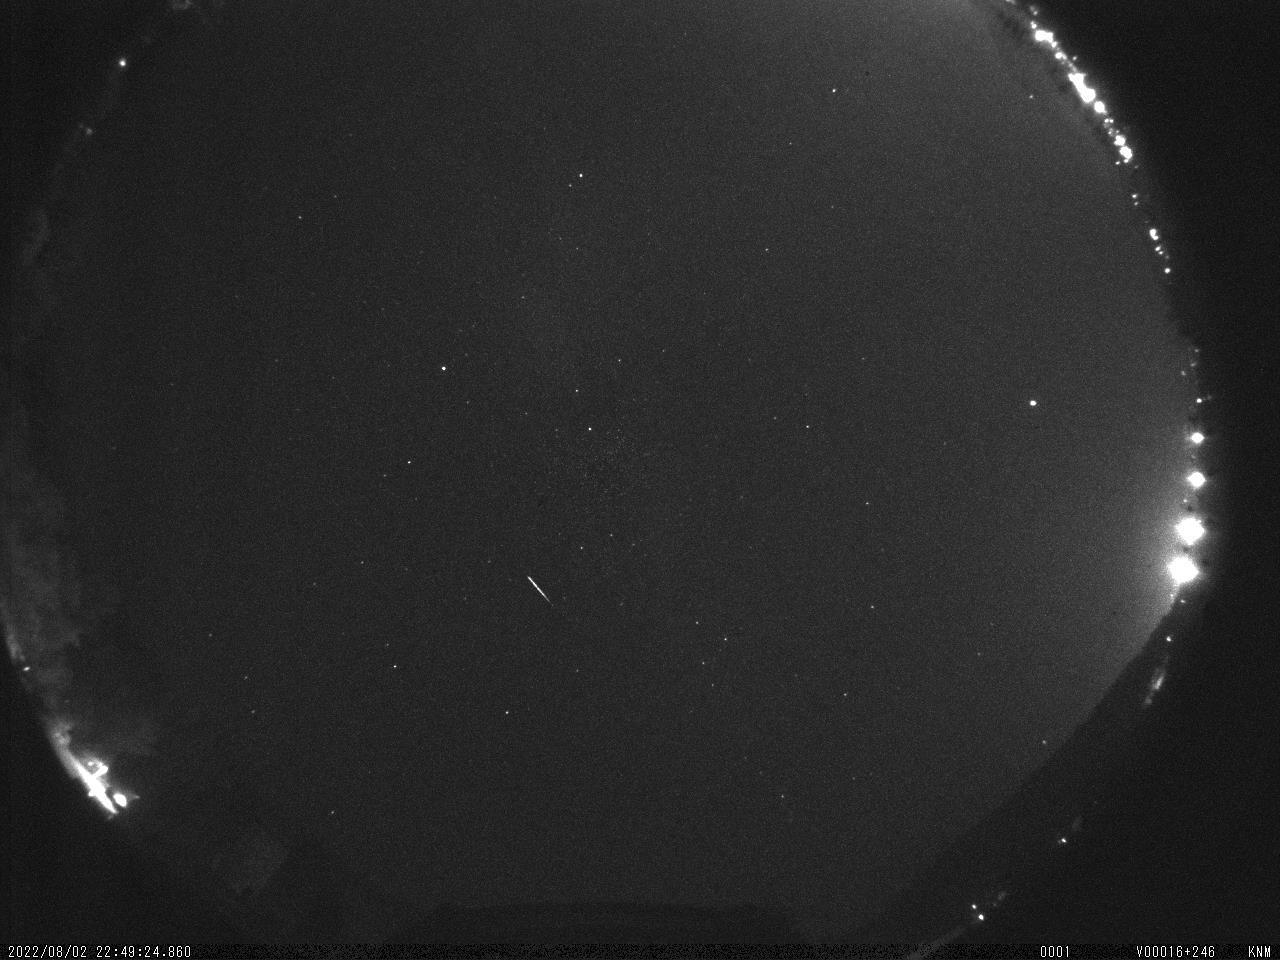Meteor: (525, 570, 555, 606)
